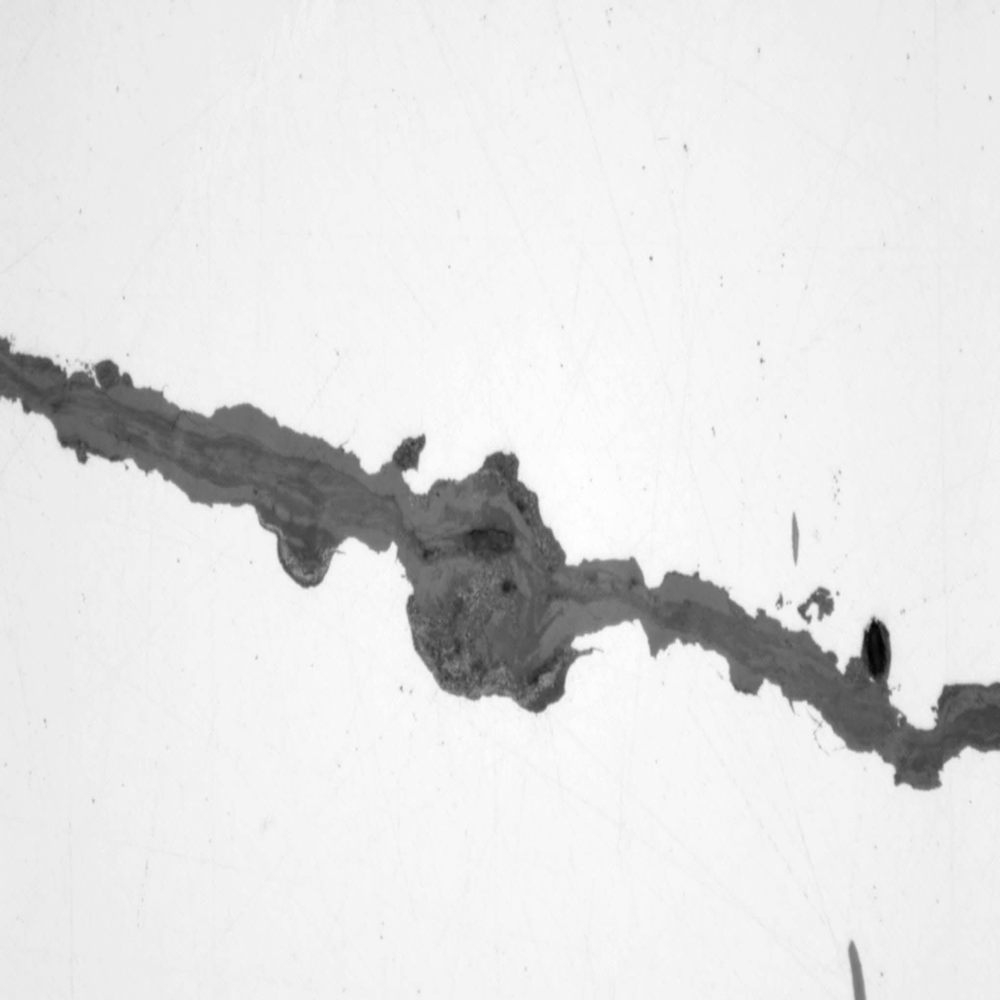crack: (1, 297, 995, 843)
